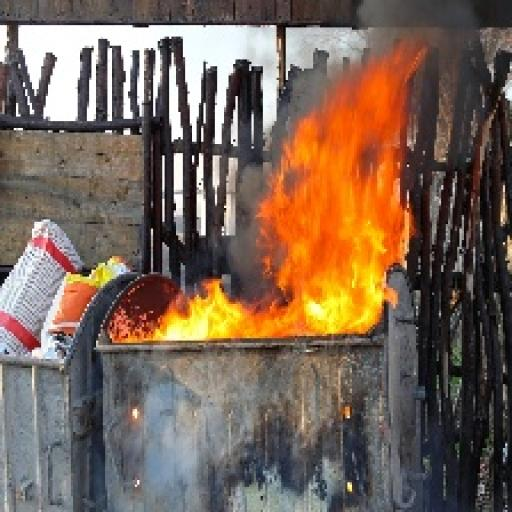fire and smoke: (144, 42, 422, 340)
